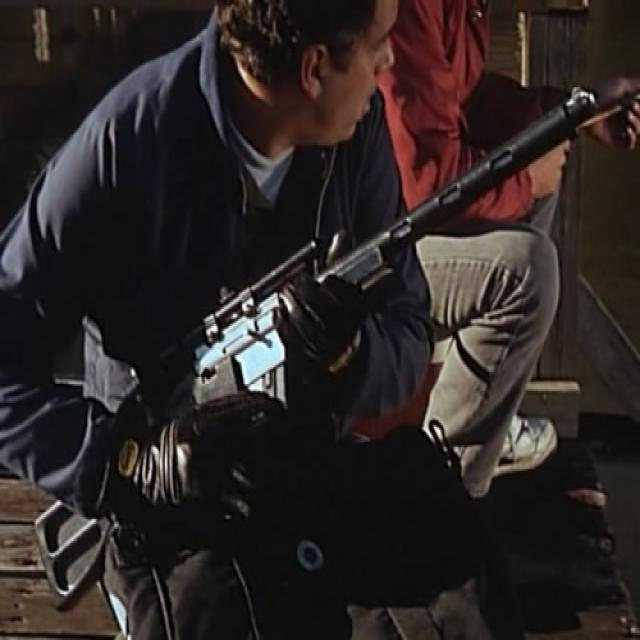rifle: (36, 78, 607, 613)
